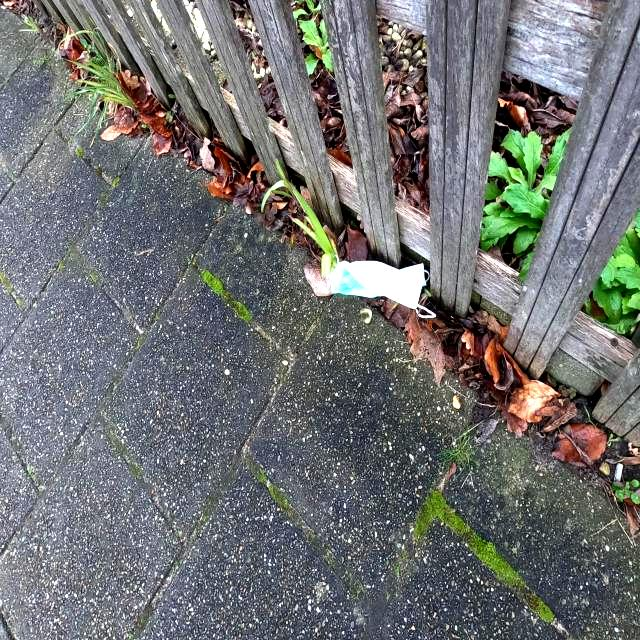Mask: (325, 254, 435, 320)
